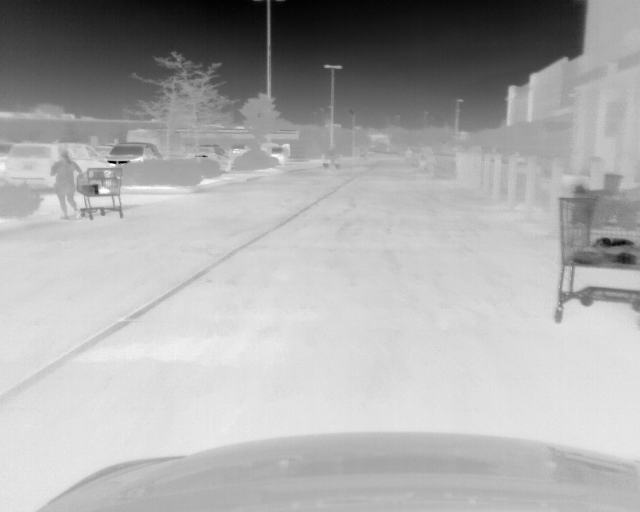car: (4, 140, 113, 191), (107, 141, 164, 170), (185, 143, 231, 172), (265, 145, 288, 165), (227, 142, 253, 156)
people: (49, 149, 81, 218)
